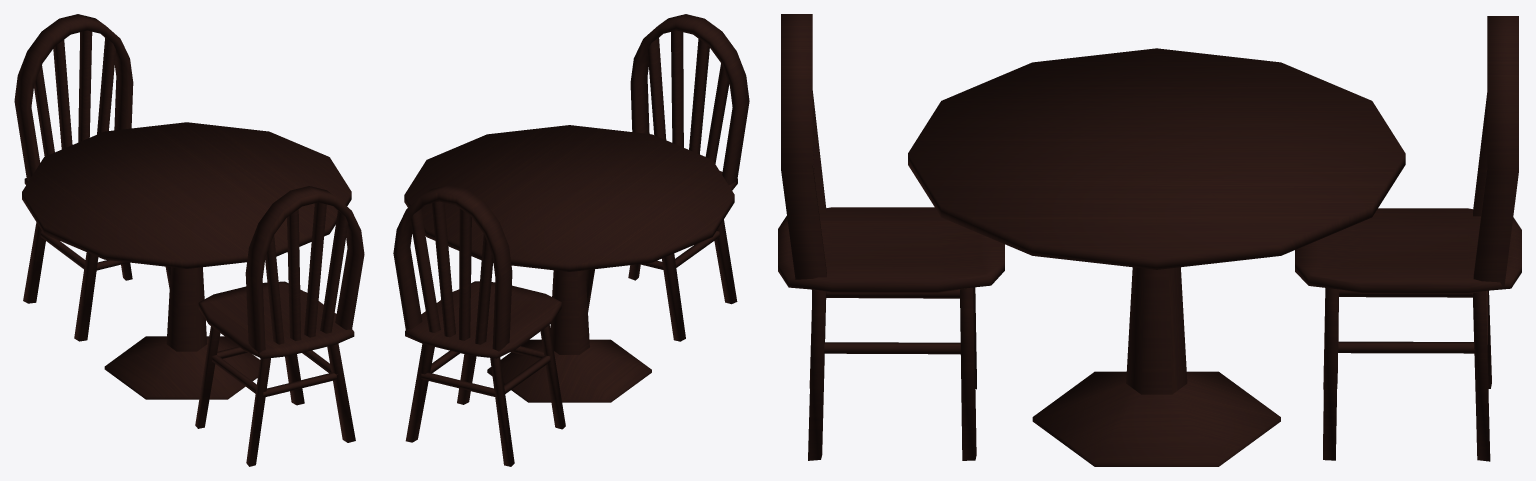
The model's file is chairTable.gltf.
The picture shows the model from 3 angles, left to right: view 1: azimuth 30°, elevation 25°; view 2: azimuth 150°, elevation 25°; view 3: azimuth 270°, elevation 25°; orthographic projection. The views are drawn at different scales.
Visible parts, largest first — view 1: TwoChairsOneTable; view 2: TwoChairsOneTable; view 3: TwoChairsOneTable.
Boxes of the visible parts, bbox=[...] form: TwoChairsOneTable: bbox=[14, 14, 364, 466]; TwoChairsOneTable: bbox=[393, 14, 749, 466]; TwoChairsOneTable: bbox=[778, 14, 1521, 466].
Bounding box in the file's own units: 1.33 × 1.18 × 1.99.
